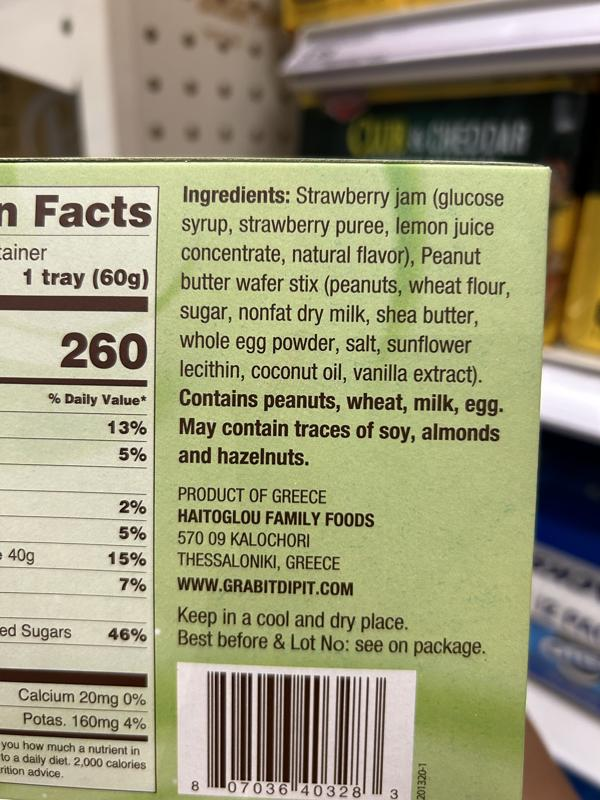ingredients: (176, 181, 515, 390)
